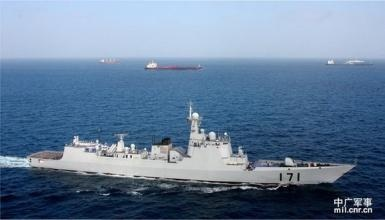Cargoship: (145, 57, 205, 71)
warship: (27, 101, 363, 184)
